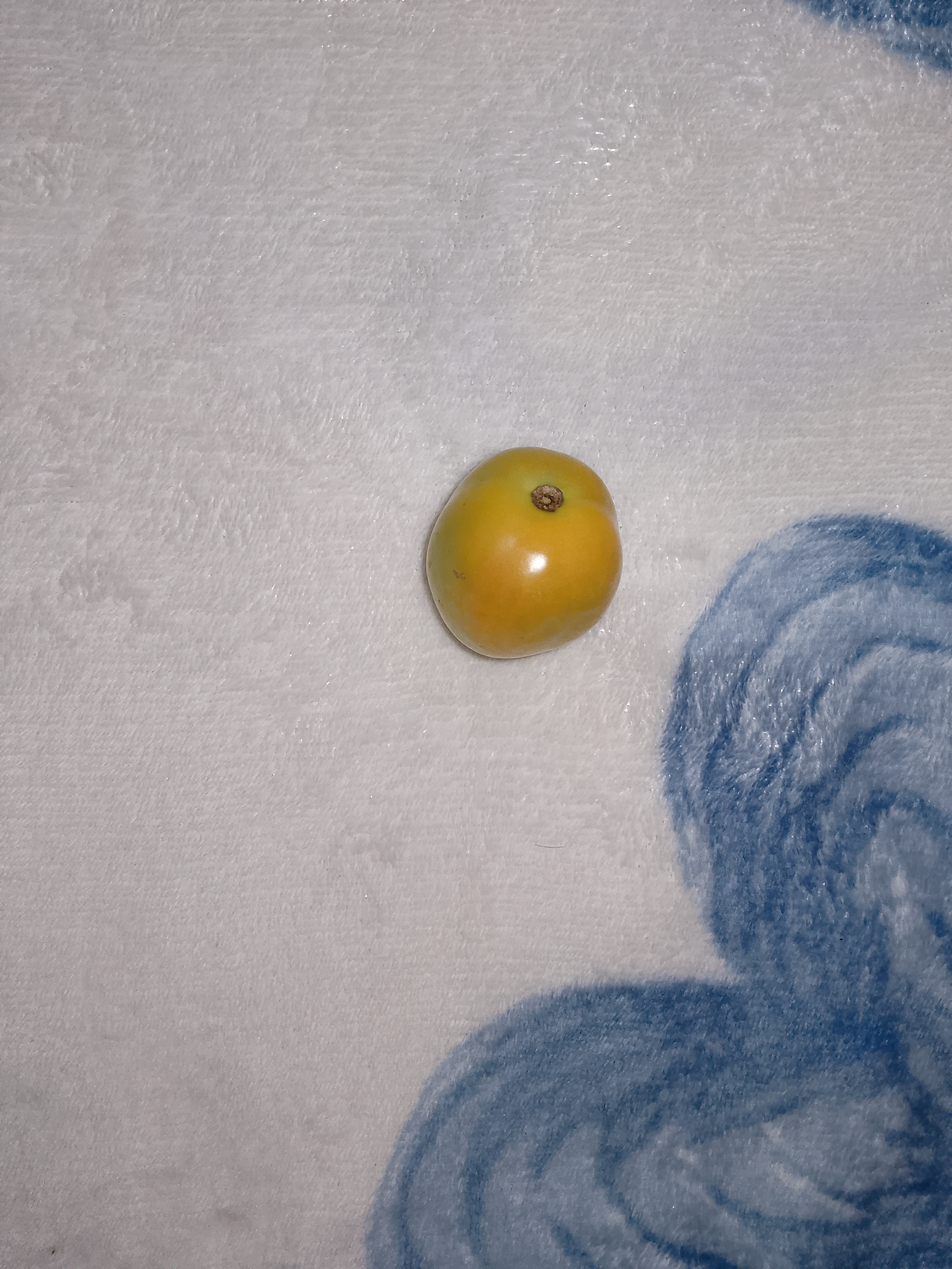Unripe: (353, 376, 675, 701)
